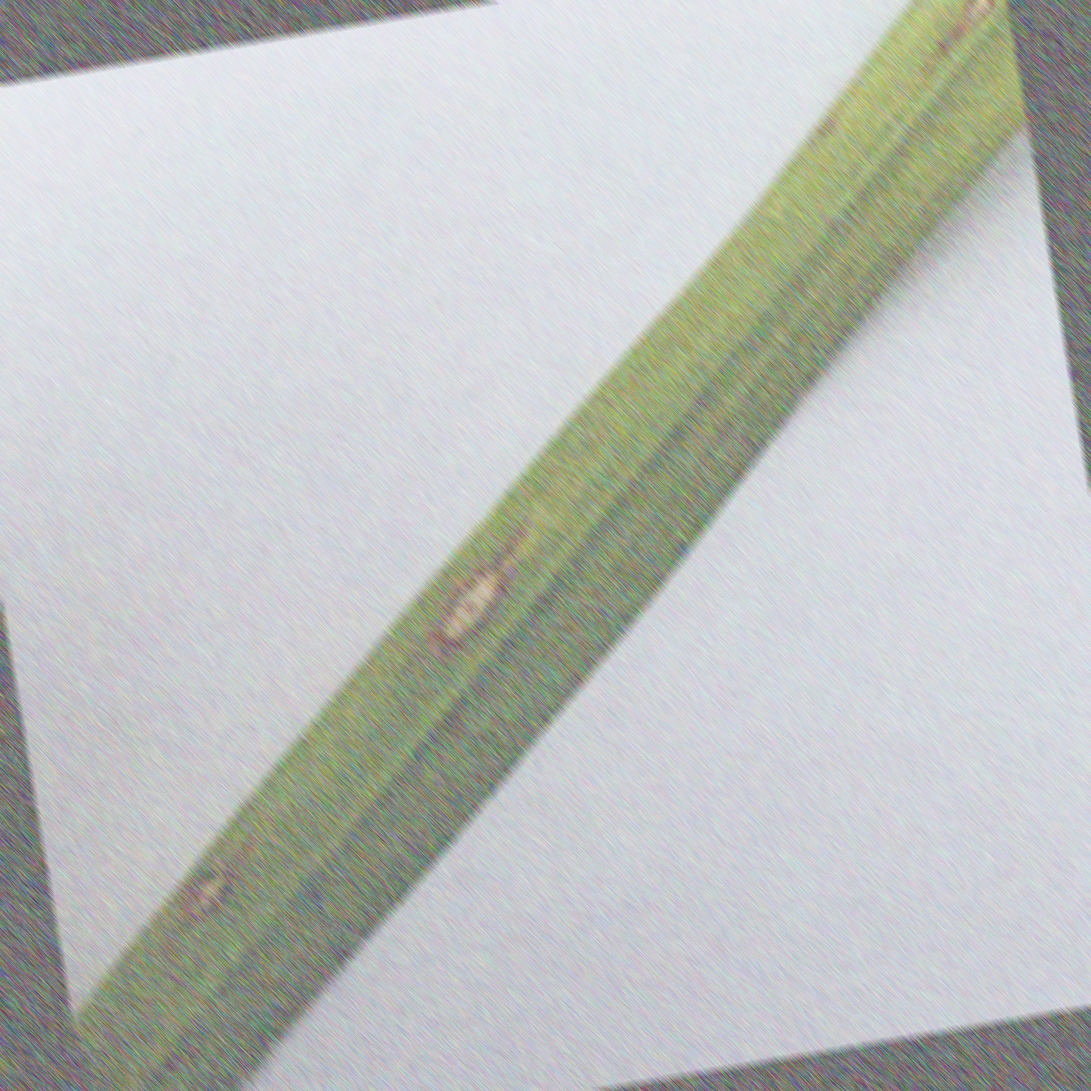Brown_Spot: (366, 455, 546, 681), (120, 788, 305, 971), (901, 0, 1008, 80)
